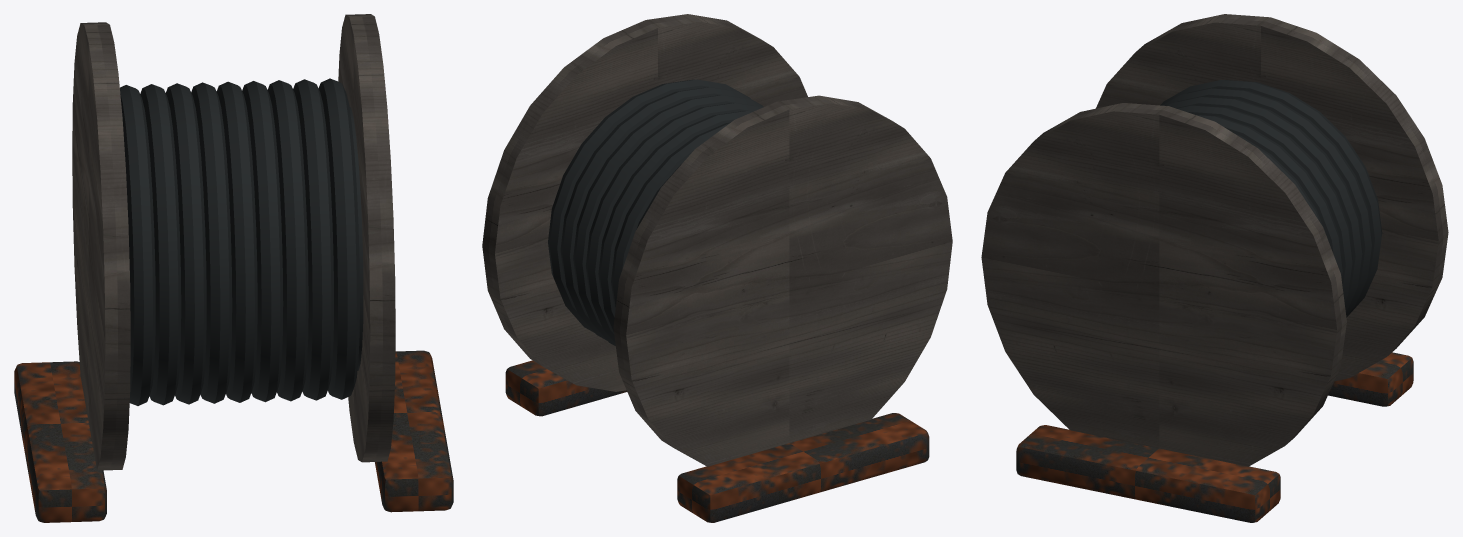
File: SM_PortableCableReel_a62baea36c.fbx
3 renders of one model, left to right at view 1: azimuth 30°, elevation 25°; view 2: azimuth 150°, elevation 25°; view 3: azimuth 270°, elevation 25°, orthographic. The views are drawn at different scales.
Visible parts, largest first — view 1: SM_PortableCableReel_a62baea36c; view 2: SM_PortableCableReel_a62baea36c; view 3: SM_PortableCableReel_a62baea36c.
Boxes of the visible parts, <box> form: SM_PortableCableReel_a62baea36c: <box>14,14,453,522</box>; SM_PortableCableReel_a62baea36c: <box>482,14,952,522</box>; SM_PortableCableReel_a62baea36c: <box>981,14,1448,522</box>.
Size of what is drawn, in the model's own units: 49.34 by 52.02 by 45.
3 materials, 2 textured.
